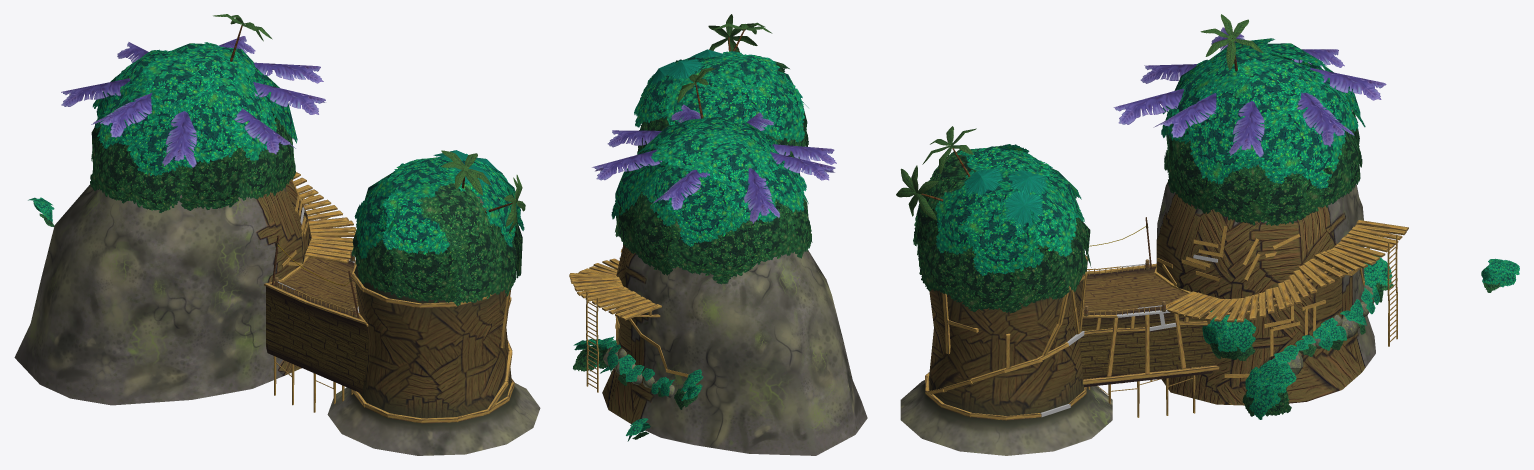
File: boatt area.fbx
3 views of the same model, side by side, from view 1: azimuth 30°, elevation 25°; view 2: azimuth 150°, elevation 25°; view 3: azimuth 270°, elevation 25° (orthographic). The views are drawn at different scales.
Parts seen in each view (by area): view 1: pCylinder2, pCylinder1, pCube1, pPlane12, pPlane49, pPlane37, pPlane5, pPlane4, pPlane8, pPlane141, pPlane38, pPlane33 (+24 smaller); view 2: pCylinder2, pPlane42, pPlane17, pPlane32, pPlane142, pPlane44, pPlane16, pPlane40, pPlane33, pPlane144, pPlane7, pPlane43 (+25 smaller); view 3: pCylinder2, pCylinder1, pCube1, pPlane10, pPlane30, pPlane46, pPlane20, pPlane45, pPlane47, pPlane48, pPlane13, pPlane139 (+32 smaller).
Part boxes in pixels (x1,y1,x2,y2): pCylinder2: [14, 90, 311, 405]; pCylinder1: [327, 196, 540, 455]; pCube1: [266, 257, 369, 393]; pPlane12: [389, 240, 460, 302]; pPlane49: [179, 145, 249, 210]; pPlane37: [166, 87, 240, 167]; pPlane5: [382, 189, 450, 254]; pPlane4: [418, 178, 491, 248]; pPlane8: [142, 55, 212, 113]; pPlane141: [90, 141, 143, 203]; pPlane38: [127, 102, 198, 176]; pPlane33: [97, 82, 165, 149]; pCylinder2: [602, 175, 867, 455]; pPlane42: [666, 175, 741, 246]; pPlane17: [753, 76, 805, 142]; pPlane32: [694, 132, 768, 189]; pPlane142: [699, 220, 764, 284]; pPlane44: [630, 199, 676, 275]; pPlane16: [699, 83, 776, 133]; pPlane40: [746, 199, 795, 263]; pPlane33: [757, 144, 806, 212]; pPlane144: [710, 51, 780, 89]; pPlane7: [651, 129, 715, 170]; pPlane43: [667, 218, 712, 275]; pCylinder2: [1156, 181, 1375, 405]; pCylinder1: [900, 188, 1112, 455]; pCube1: [1079, 267, 1214, 387]; pPlane10: [963, 200, 1044, 275]; pPlane30: [1223, 58, 1304, 130]; pPlane46: [1188, 105, 1258, 184]; pPlane20: [955, 246, 1025, 313]; pPlane45: [1274, 108, 1345, 188]; pPlane47: [1210, 164, 1273, 225]; pPlane48: [1241, 165, 1324, 225]; pPlane13: [935, 187, 988, 254]; pPlane139: [1168, 140, 1215, 213].
Bounding box in the file's own units: 90.27 × 84.98 × 133.
